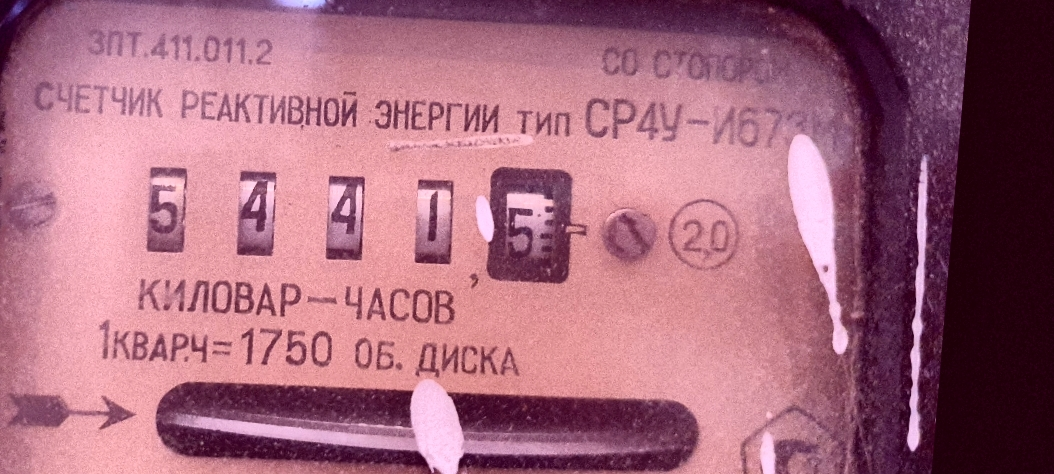1: (417, 187, 445, 246)
4: (322, 175, 364, 243), (234, 173, 274, 237)
5: (499, 200, 539, 265), (141, 179, 184, 239)
screen: (116, 112, 601, 316)
